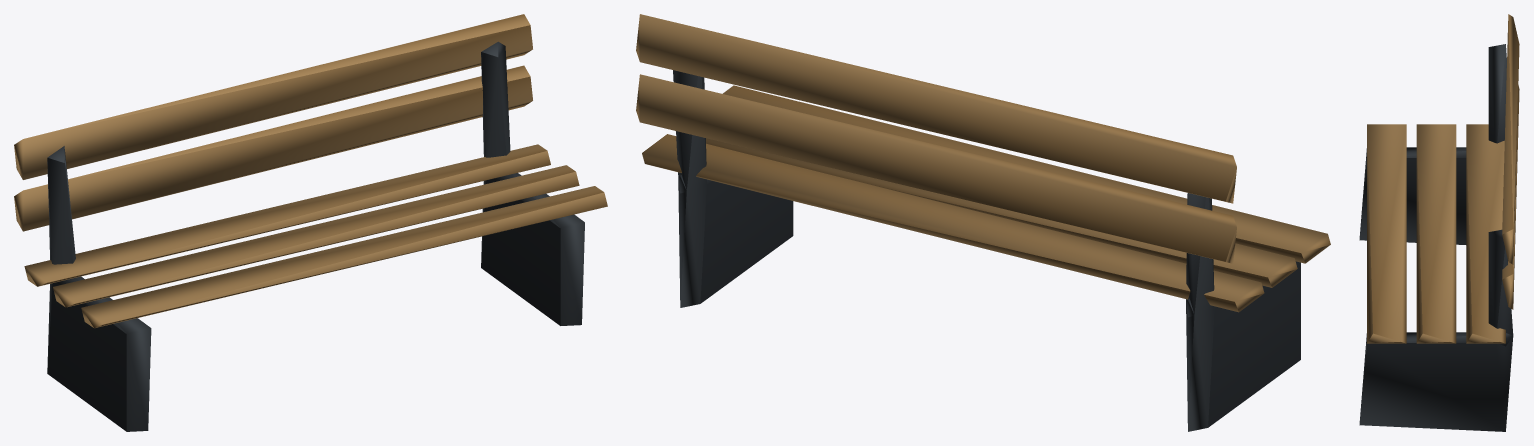
Rendered from bench-v1.lod2.glb.
3 views of the same model, side by side, from view 1: azimuth 30°, elevation 25°; view 2: azimuth 150°, elevation 25°; view 3: azimuth 270°, elevation 25° (orthographic). The views are drawn at different scales.
Parts seen in each view (by area): view 1: bench-v1.lod2; view 2: bench-v1.lod2; view 3: bench-v1.lod2.
Boxes of the visible parts, <box> form: bench-v1.lod2: <box>14,14,607,431</box>; bench-v1.lod2: <box>636,14,1330,431</box>; bench-v1.lod2: <box>1359,14,1519,431</box>.
Size of the model in its own units: 2.1 by 0.96 by 0.645.
